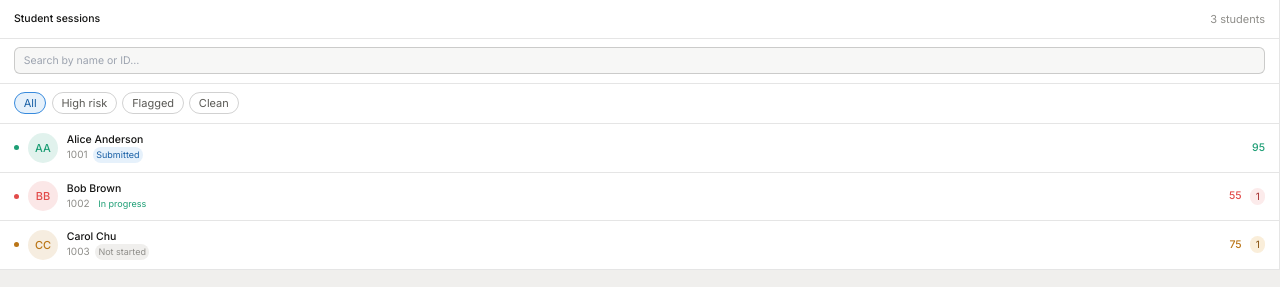
Test: StudentSidebar › shows an empty state when no student matches
The width and height of the screenshot is (1280, 287).
Type "zzz-nobody" into the field with placeholder "Search by name or ID…" at (640, 61), box x1=14 y1=47 x2=1265 y2=74
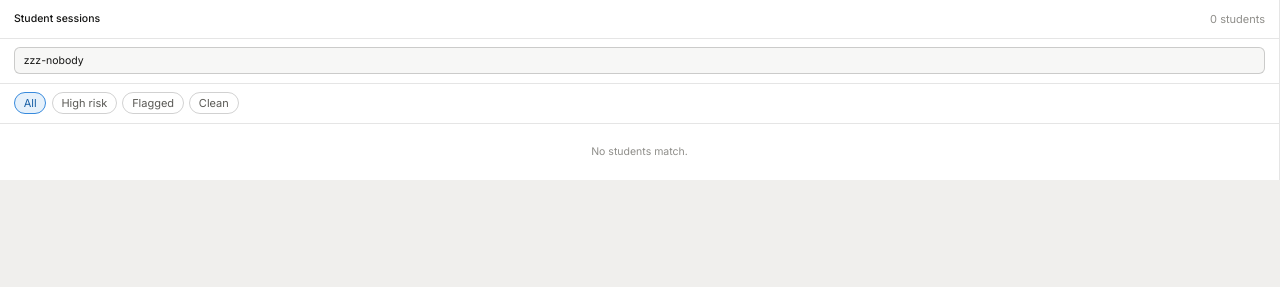
Expected: the text "No students match." is shown, x1=591 y1=145 x2=688 y2=158
